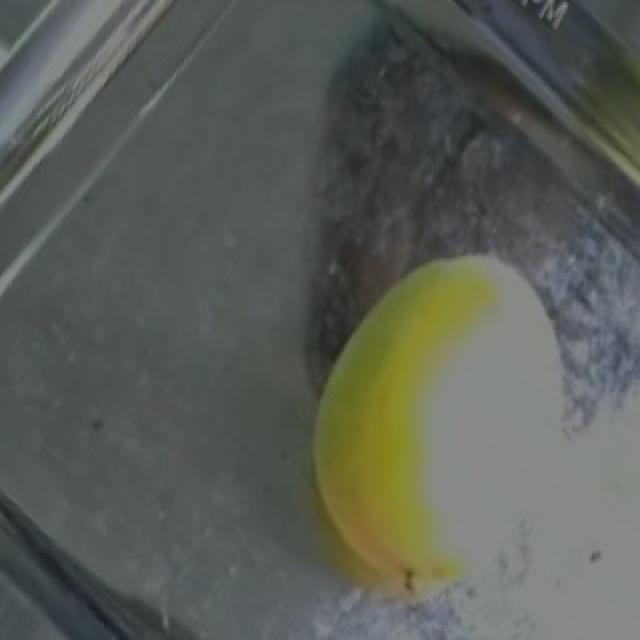fruit: (292, 206, 638, 625)
